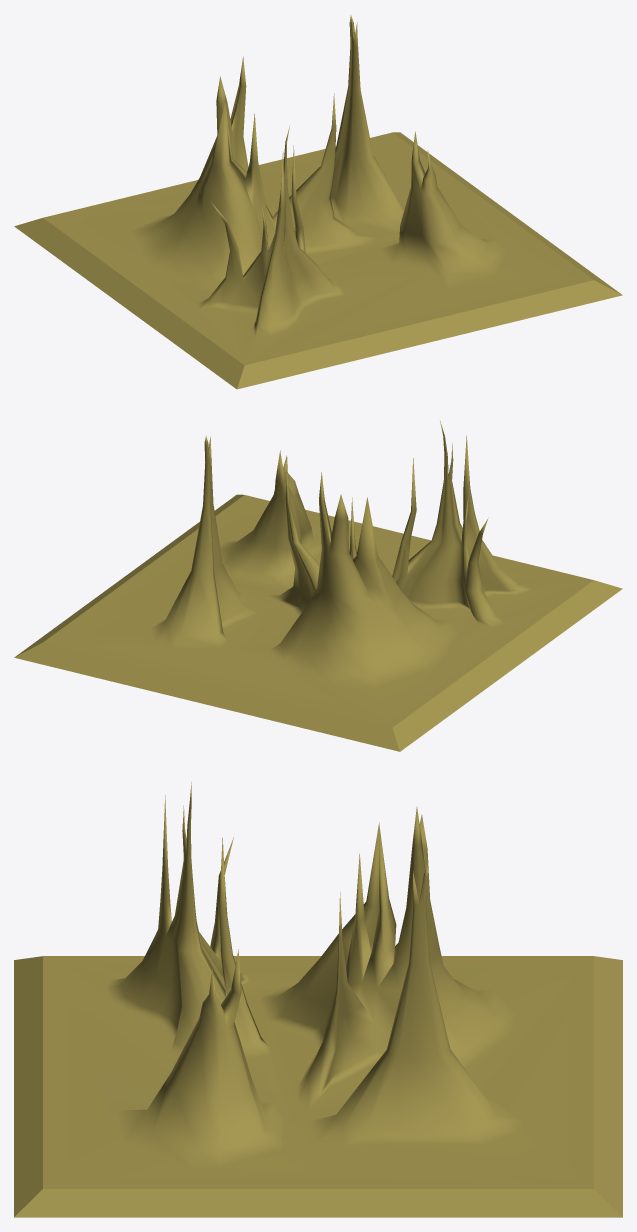
Rendered from FieldSpikes.fbx.
3 views of the same model, one above another, from view 1: azimuth 30°, elevation 25°; view 2: azimuth 150°, elevation 25°; view 3: azimuth 270°, elevation 25° (orthographic). The views are drawn at different scales.
Parts seen in each view (by area): view 1: Cube.002; view 2: Cube.002; view 3: Cube.002.
Part boxes in pixels (box(x1,y1,x2,y2)): Cube.002: box(14, 15, 622, 389); Cube.002: box(14, 420, 622, 751); Cube.002: box(14, 782, 622, 1217).
Size of the model in its own units: 433 by 214 by 433.
